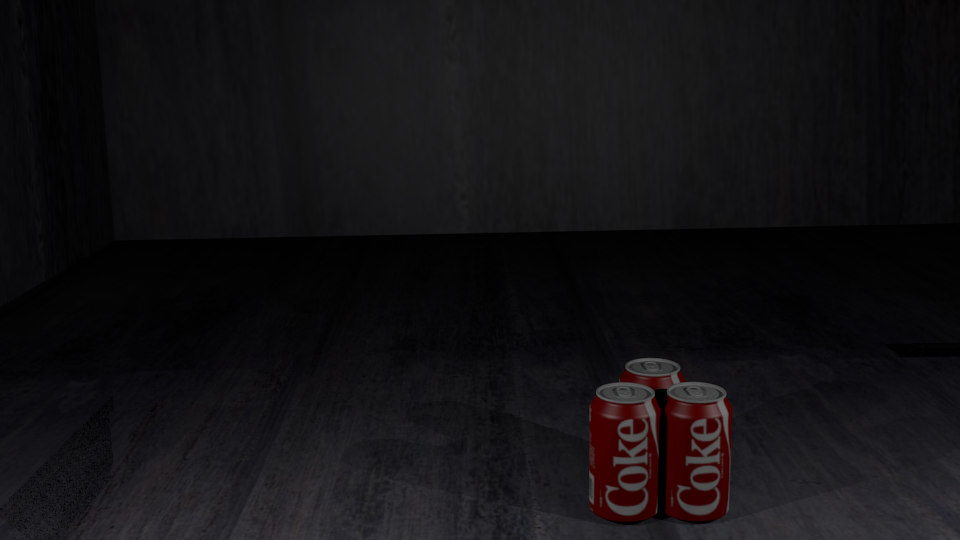cola_can: (660, 382, 731, 516), (590, 383, 660, 518), (620, 358, 685, 485)
